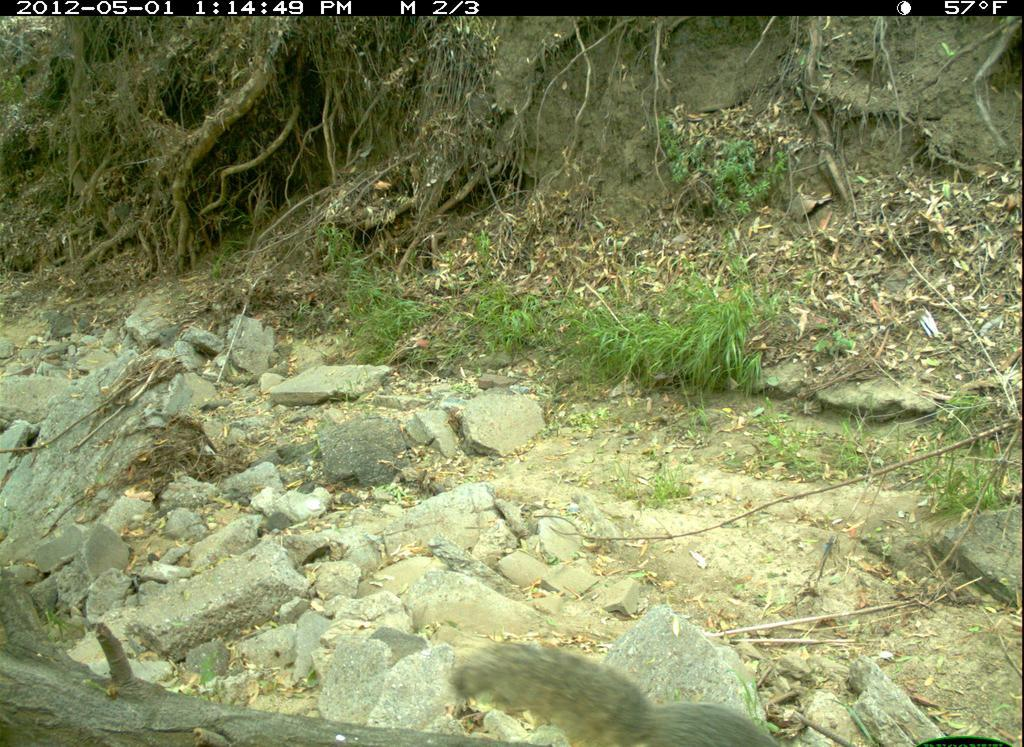squirrel: (446, 625, 802, 747)
